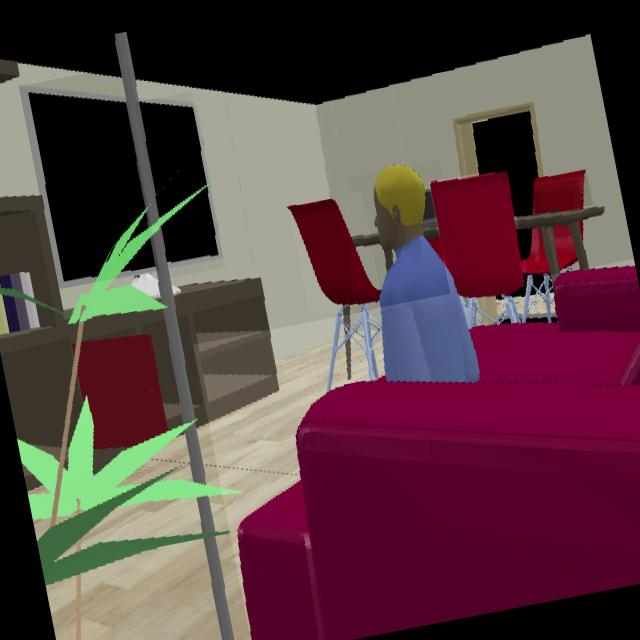chair: (430, 173, 525, 299), (289, 199, 380, 307), (533, 172, 587, 216), (552, 225, 580, 274)
monitor: (20, 87, 149, 288), (140, 102, 221, 277)
person: (375, 168, 481, 383)
sofa: (237, 265, 640, 640)
